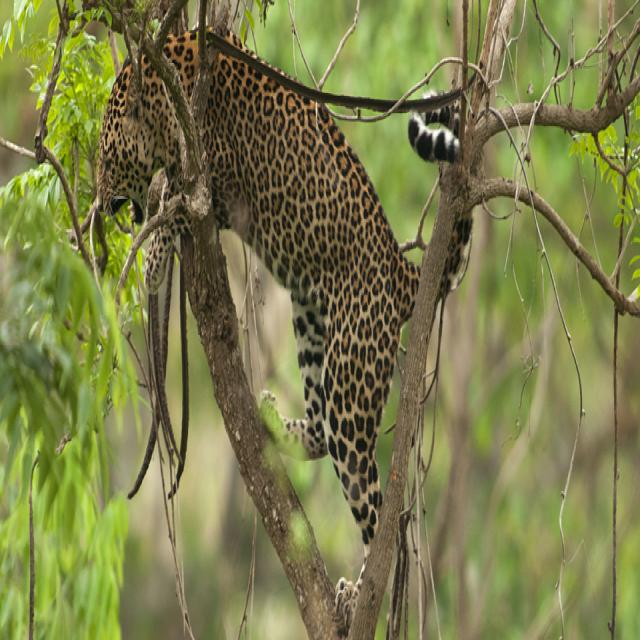Leopard: (98, 27, 470, 625)
